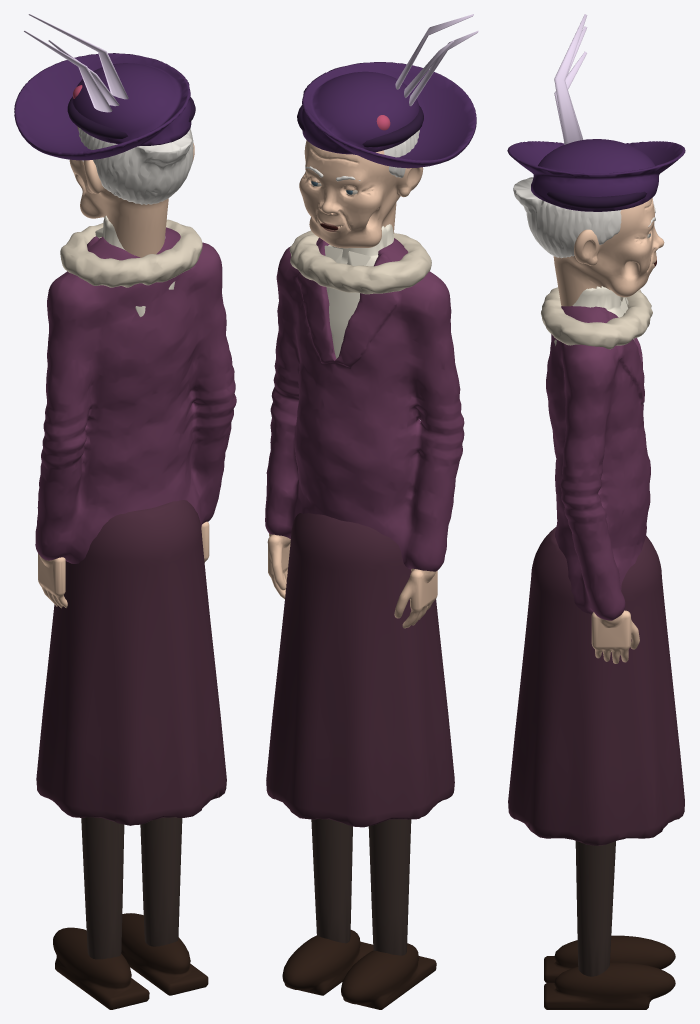
Rendered from odile.fbx.
3 renders of one model, left to right at view 1: azimuth 30°, elevation 25°; view 2: azimuth 150°, elevation 25°; view 3: azimuth 270°, elevation 25°, orthographic. The views are drawn at different scales.
Visible parts, largest first — view 1: Body, Hat, Head, HandR; view 2: Body, Hat, Head, HandR, HandL; view 3: Body, Hat, Head, HandL.
Boxes of the visible parts, x1=… form: Body: x1=35, y1=215, x2=236, y2=1009; Hat: x1=14, y1=14, x2=195, y2=160; Head: x1=69, y1=126, x2=194, y2=257; HandR: x1=38, y1=553, x2=67, y2=608; Body: x1=265, y1=224, x2=464, y2=1009; Hat: x1=297, y1=14, x2=478, y2=168; Head: x1=299, y1=130, x2=423, y2=248; HandR: x1=394, y1=568, x2=437, y2=628; HandL: x1=267, y1=533, x2=290, y2=599; Body: x1=508, y1=286, x2=684, y2=1009; Hat: x1=507, y1=14, x2=685, y2=211; Head: x1=513, y1=177, x2=664, y2=306; HandL: x1=591, y1=610, x2=639, y2=663.
Size of the model in its own units: 0.4228 by 1.94 by 0.3384.
